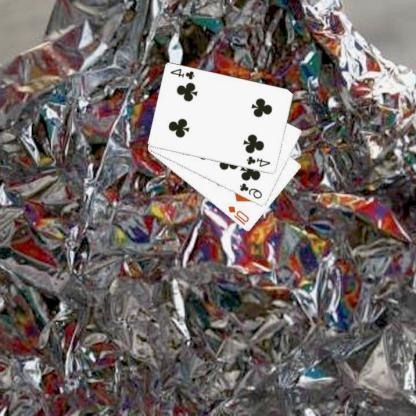10D: (227, 204, 252, 226)
4C: (170, 66, 198, 81), (245, 154, 274, 168)
9C: (239, 180, 265, 200)
